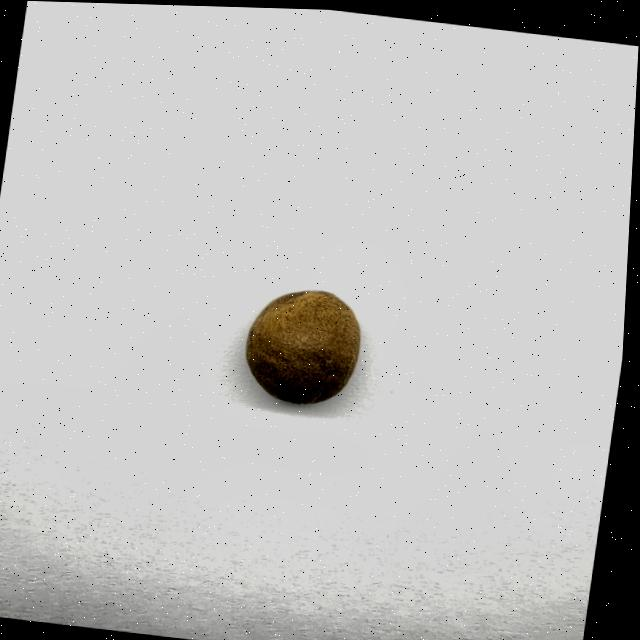Quaker: (241, 279, 371, 408)
